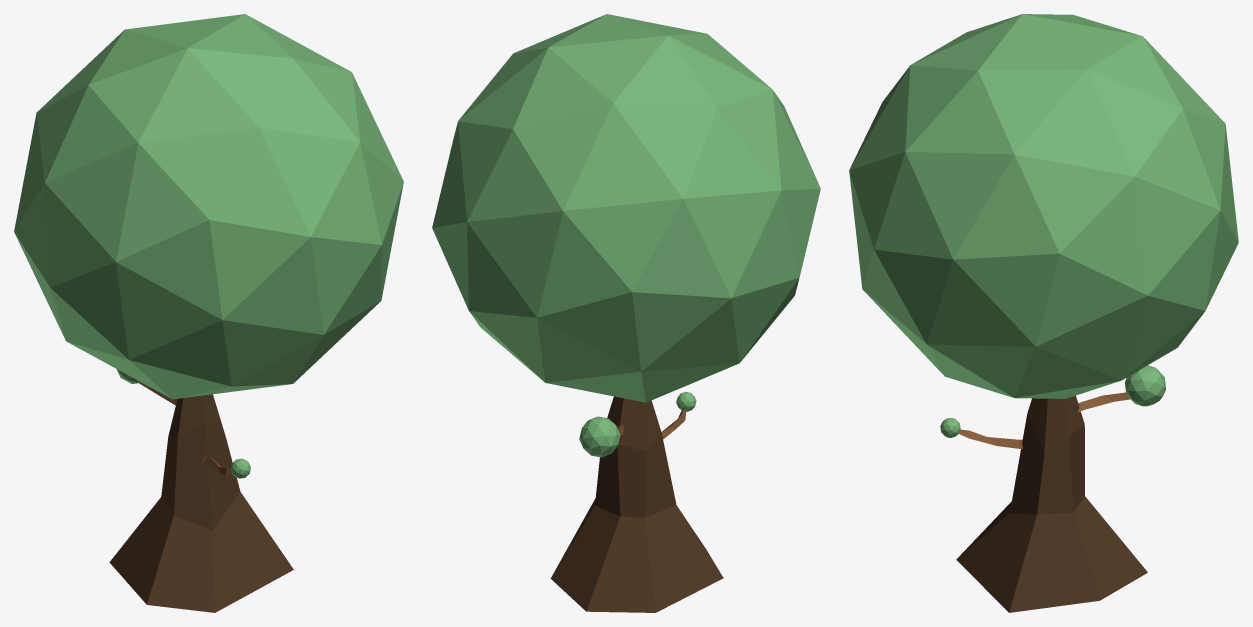
File: big_tree.fbx
The picture shows the model from 3 angles, left to right: view 1: azimuth 30°, elevation 25°; view 2: azimuth 150°, elevation 25°; view 3: azimuth 270°, elevation 25°; orthographic projection. The views are drawn at different scales.
Parts seen in each view (by area): view 1: ball style tree.006, tree trunk; view 2: ball style tree.006, tree trunk, ball style tree; view 3: ball style tree.006, tree trunk, ball style tree, bough.
Boxes of the visible parts, x1,y1,x2,y2 form: ball style tree.006: (14, 14, 403, 399); tree trunk: (109, 394, 293, 612); ball style tree.006: (432, 14, 820, 402); tree trunk: (550, 396, 723, 612); ball style tree: (579, 416, 620, 457); ball style tree.006: (849, 14, 1238, 398); tree trunk: (956, 395, 1147, 612); ball style tree: (1124, 365, 1165, 406); bough: (958, 429, 1022, 448).
Size of the model in its own units: 7.68 by 11.92 by 7.66.
Materials: 3 (3 with a texture image).
